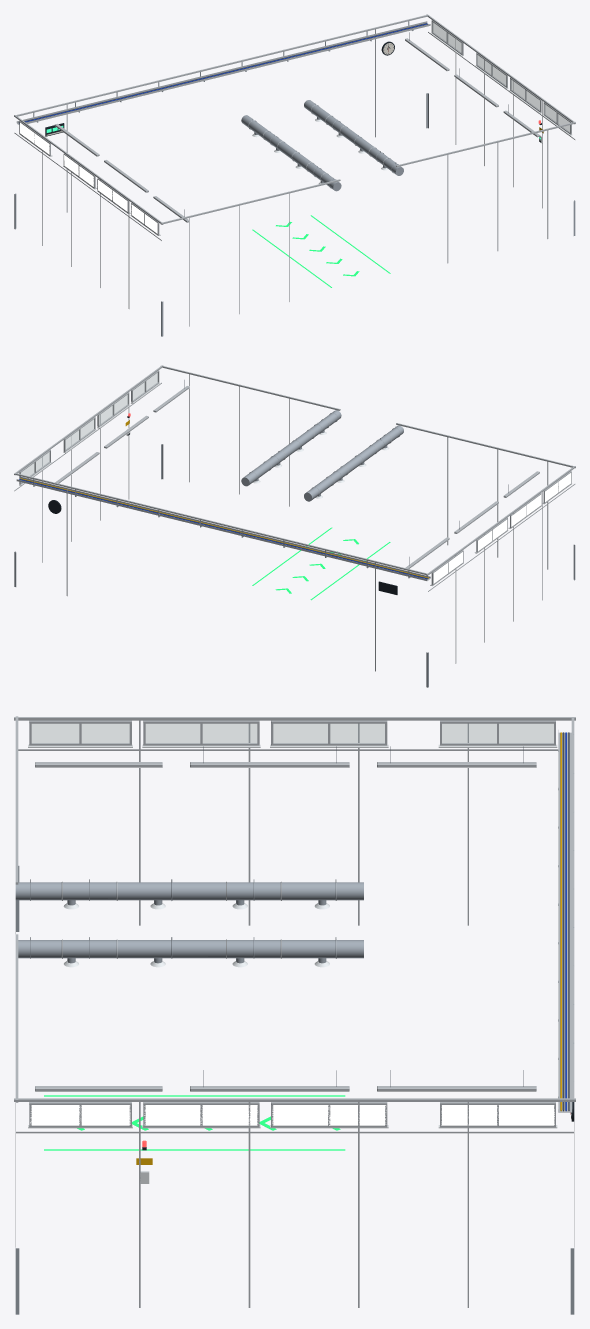
File: lab_infra.glb
The picture shows the model from 3 angles, top to bottom: view 1: azimuth 30°, elevation 25°; view 2: azimuth 150°, elevation 25°; view 3: azimuth 270°, elevation 25°; orthographic projection. The views are drawn at different scales.
Parts seen in each view (by area): view 1: infra_muros, infra_techo, infra_suelo; view 2: infra_muros, infra_techo, infra_suelo; view 3: infra_muros, infra_techo, infra_suelo.
Part boxes in pixels (box(x1,y1,x2,y2)): infra_muros: box(14, 14, 575, 336); infra_techo: box(16, 21, 539, 222); infra_suelo: box(252, 215, 390, 287); infra_muros: box(14, 365, 575, 687); infra_techo: box(16, 380, 539, 580); infra_suelo: box(252, 527, 390, 600); infra_muros: box(14, 716, 575, 1314); infra_techo: box(15, 730, 574, 1112); infra_suelo: box(44, 1095, 345, 1150).
Size of the model in its own units: 19.9 by 5.2 by 12.32.
